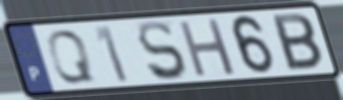1: (94, 23, 131, 84)
6: (229, 13, 278, 78)
B: (269, 12, 325, 73)
H: (176, 16, 239, 80)
Q: (45, 28, 98, 86)
S: (135, 19, 190, 83)
